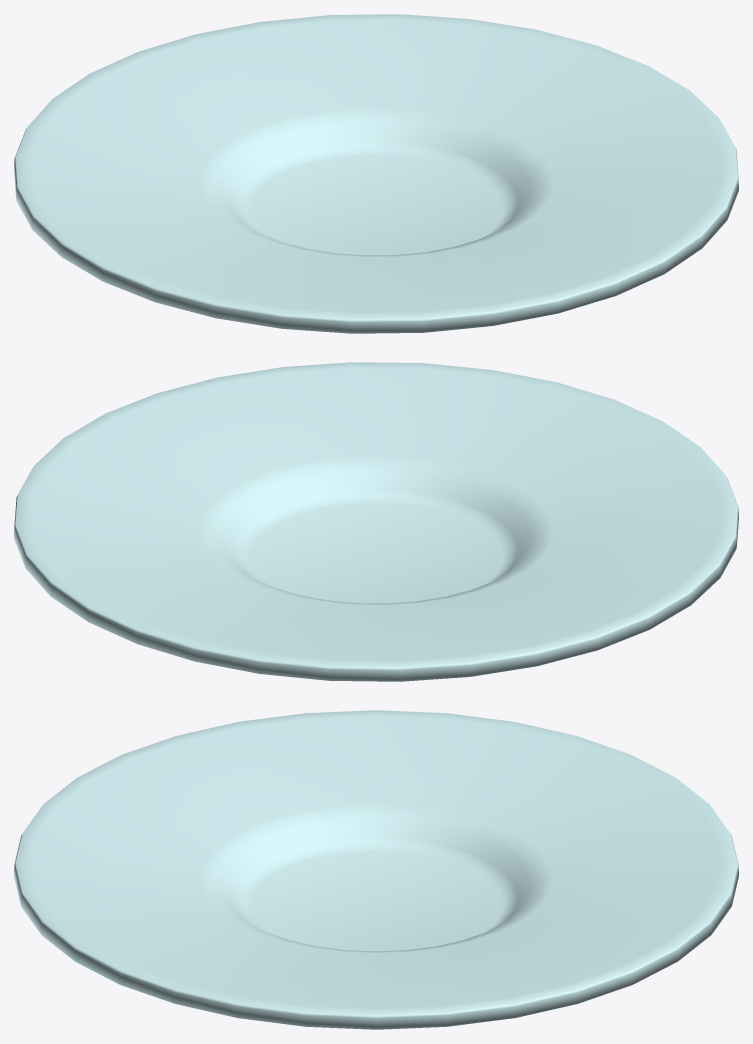
Rendered from Store_2_Plate_1.glb.
3 views of the same model, one above another, from view 1: azimuth 30°, elevation 25°; view 2: azimuth 150°, elevation 25°; view 3: azimuth 270°, elevation 25° (orthographic).
Parts seen in each view (by area): view 1: Store_2_Plate_1; view 2: Store_2_Plate_1; view 3: Store_2_Plate_1.
Part boxes in pixels (left/top/right/bottom): Store_2_Plate_1: left=14, top=14, right=738, bottom=333; Store_2_Plate_1: left=14, top=362, right=738, bottom=681; Store_2_Plate_1: left=14, top=710, right=738, bottom=1029.
Bounding box in the file's own units: 0.5206 × 0.0486 × 0.5206.
1 material, 1 textured.
